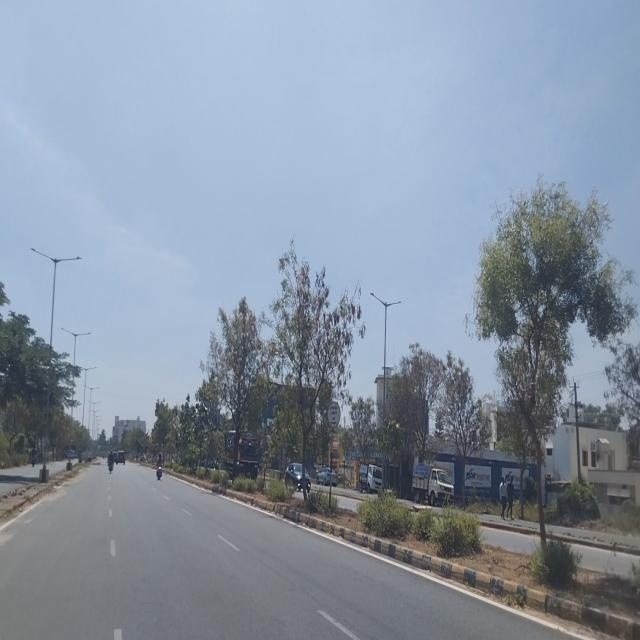bien_nguy_hiem: (327, 401, 340, 430)
